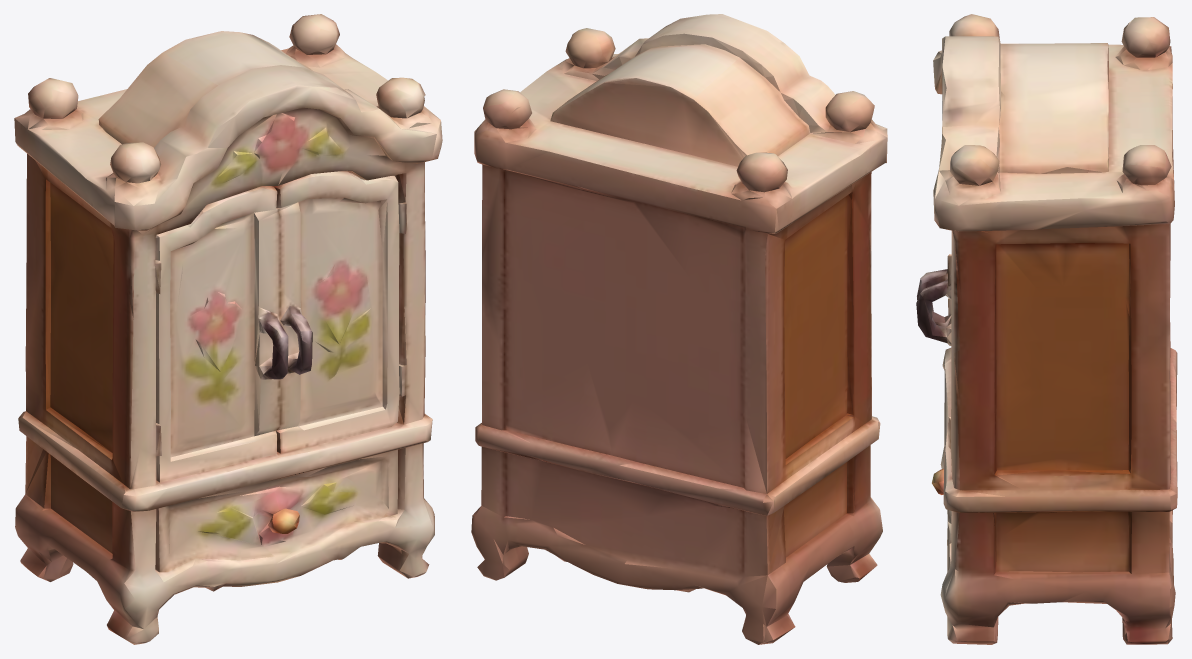
The model's file is cabinet18.glb.
The picture shows the model from 3 angles, left to right: view 1: azimuth 30°, elevation 25°; view 2: azimuth 150°, elevation 25°; view 3: azimuth 270°, elevation 25°; orthographic projection. The views are drawn at different scales.
Size of the model in its own units: 0.2108 by 0.3229 by 0.145.
Materials: 1 (1 with a texture image).
